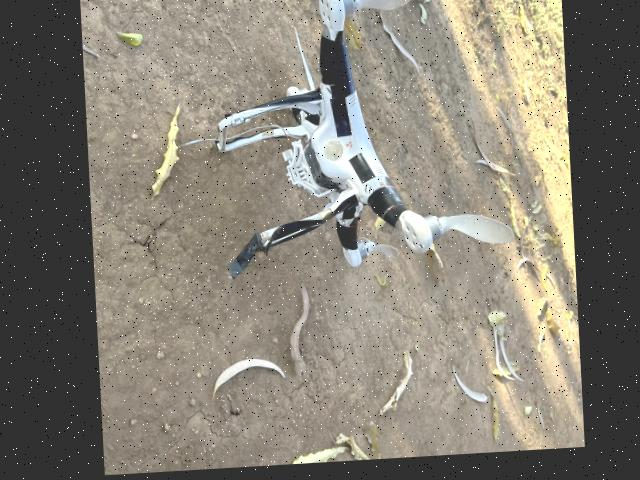drone: (175, 0, 502, 329)
